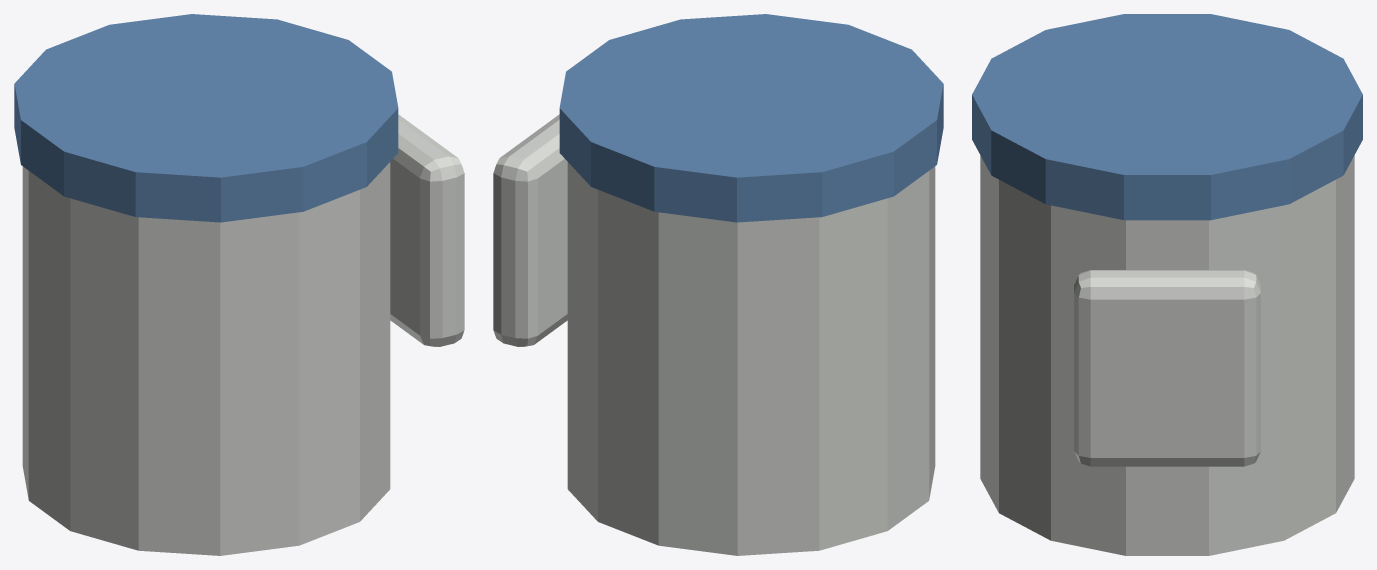
The model's file is dec_mug.glb.
The picture shows the model from 3 angles, left to right: view 1: azimuth 30°, elevation 25°; view 2: azimuth 150°, elevation 25°; view 3: azimuth 270°, elevation 25°; orthographic projection.
Parts seen in each view (by area): view 1: dec_mug; view 2: dec_mug; view 3: dec_mug.
Part boxes in pixels (<box>): dec_mug: <box>14,14,464,555</box>; dec_mug: <box>493,14,943,555</box>; dec_mug: <box>972,14,1362,555</box>.
Size of the model in its own units: 0.1068 by 0.102 by 0.094.
